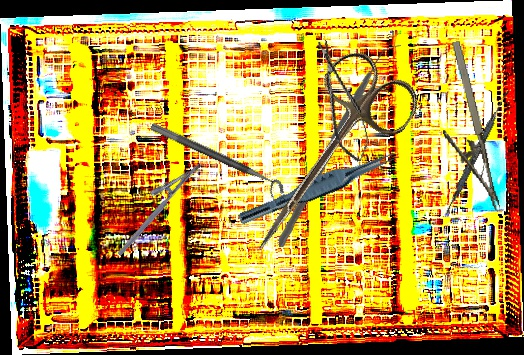Chopper: (265, 44, 415, 248)
Fixation Ring: (144, 121, 288, 204)
Iris Scissors: (223, 42, 427, 280)
Micro Scissor: (310, 35, 374, 166)
Needle Holder: (425, 39, 501, 220), (105, 151, 203, 257)
Spatula Surgical: (443, 88, 510, 218)
Tissue Forceps: (237, 142, 400, 234)
